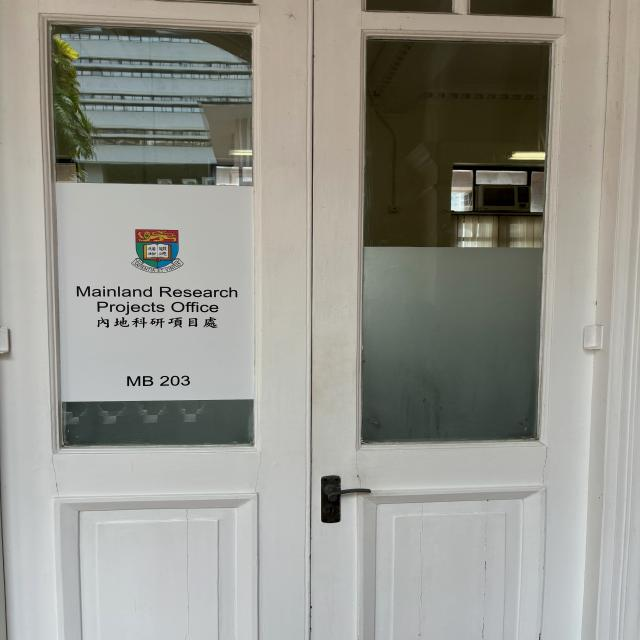MB203_bannerNumber: (122, 372, 192, 393)
